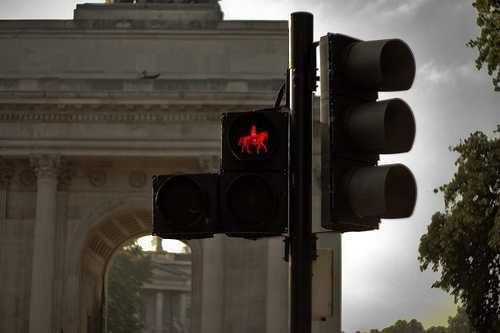red: (222, 105, 289, 240), (221, 109, 278, 166)
